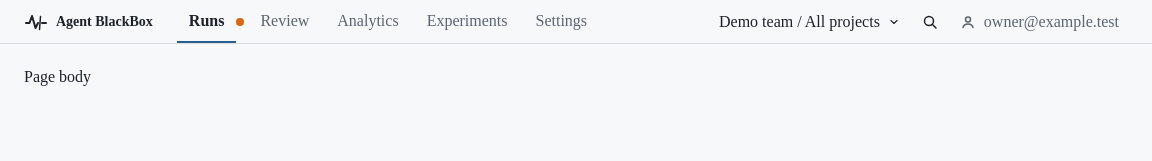
the scope control › offers no workspace list to someone with a single workspace
This screenshot has width=1152, height=161.
Click the button "Demo team / All projects" at (809, 22), box [710,6,909,38]
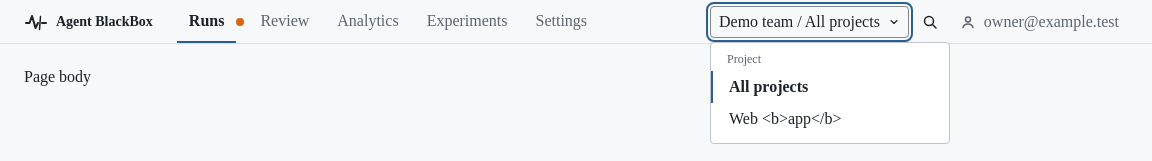
Check: the list "projects" is shown, box [711,70,949,134]
